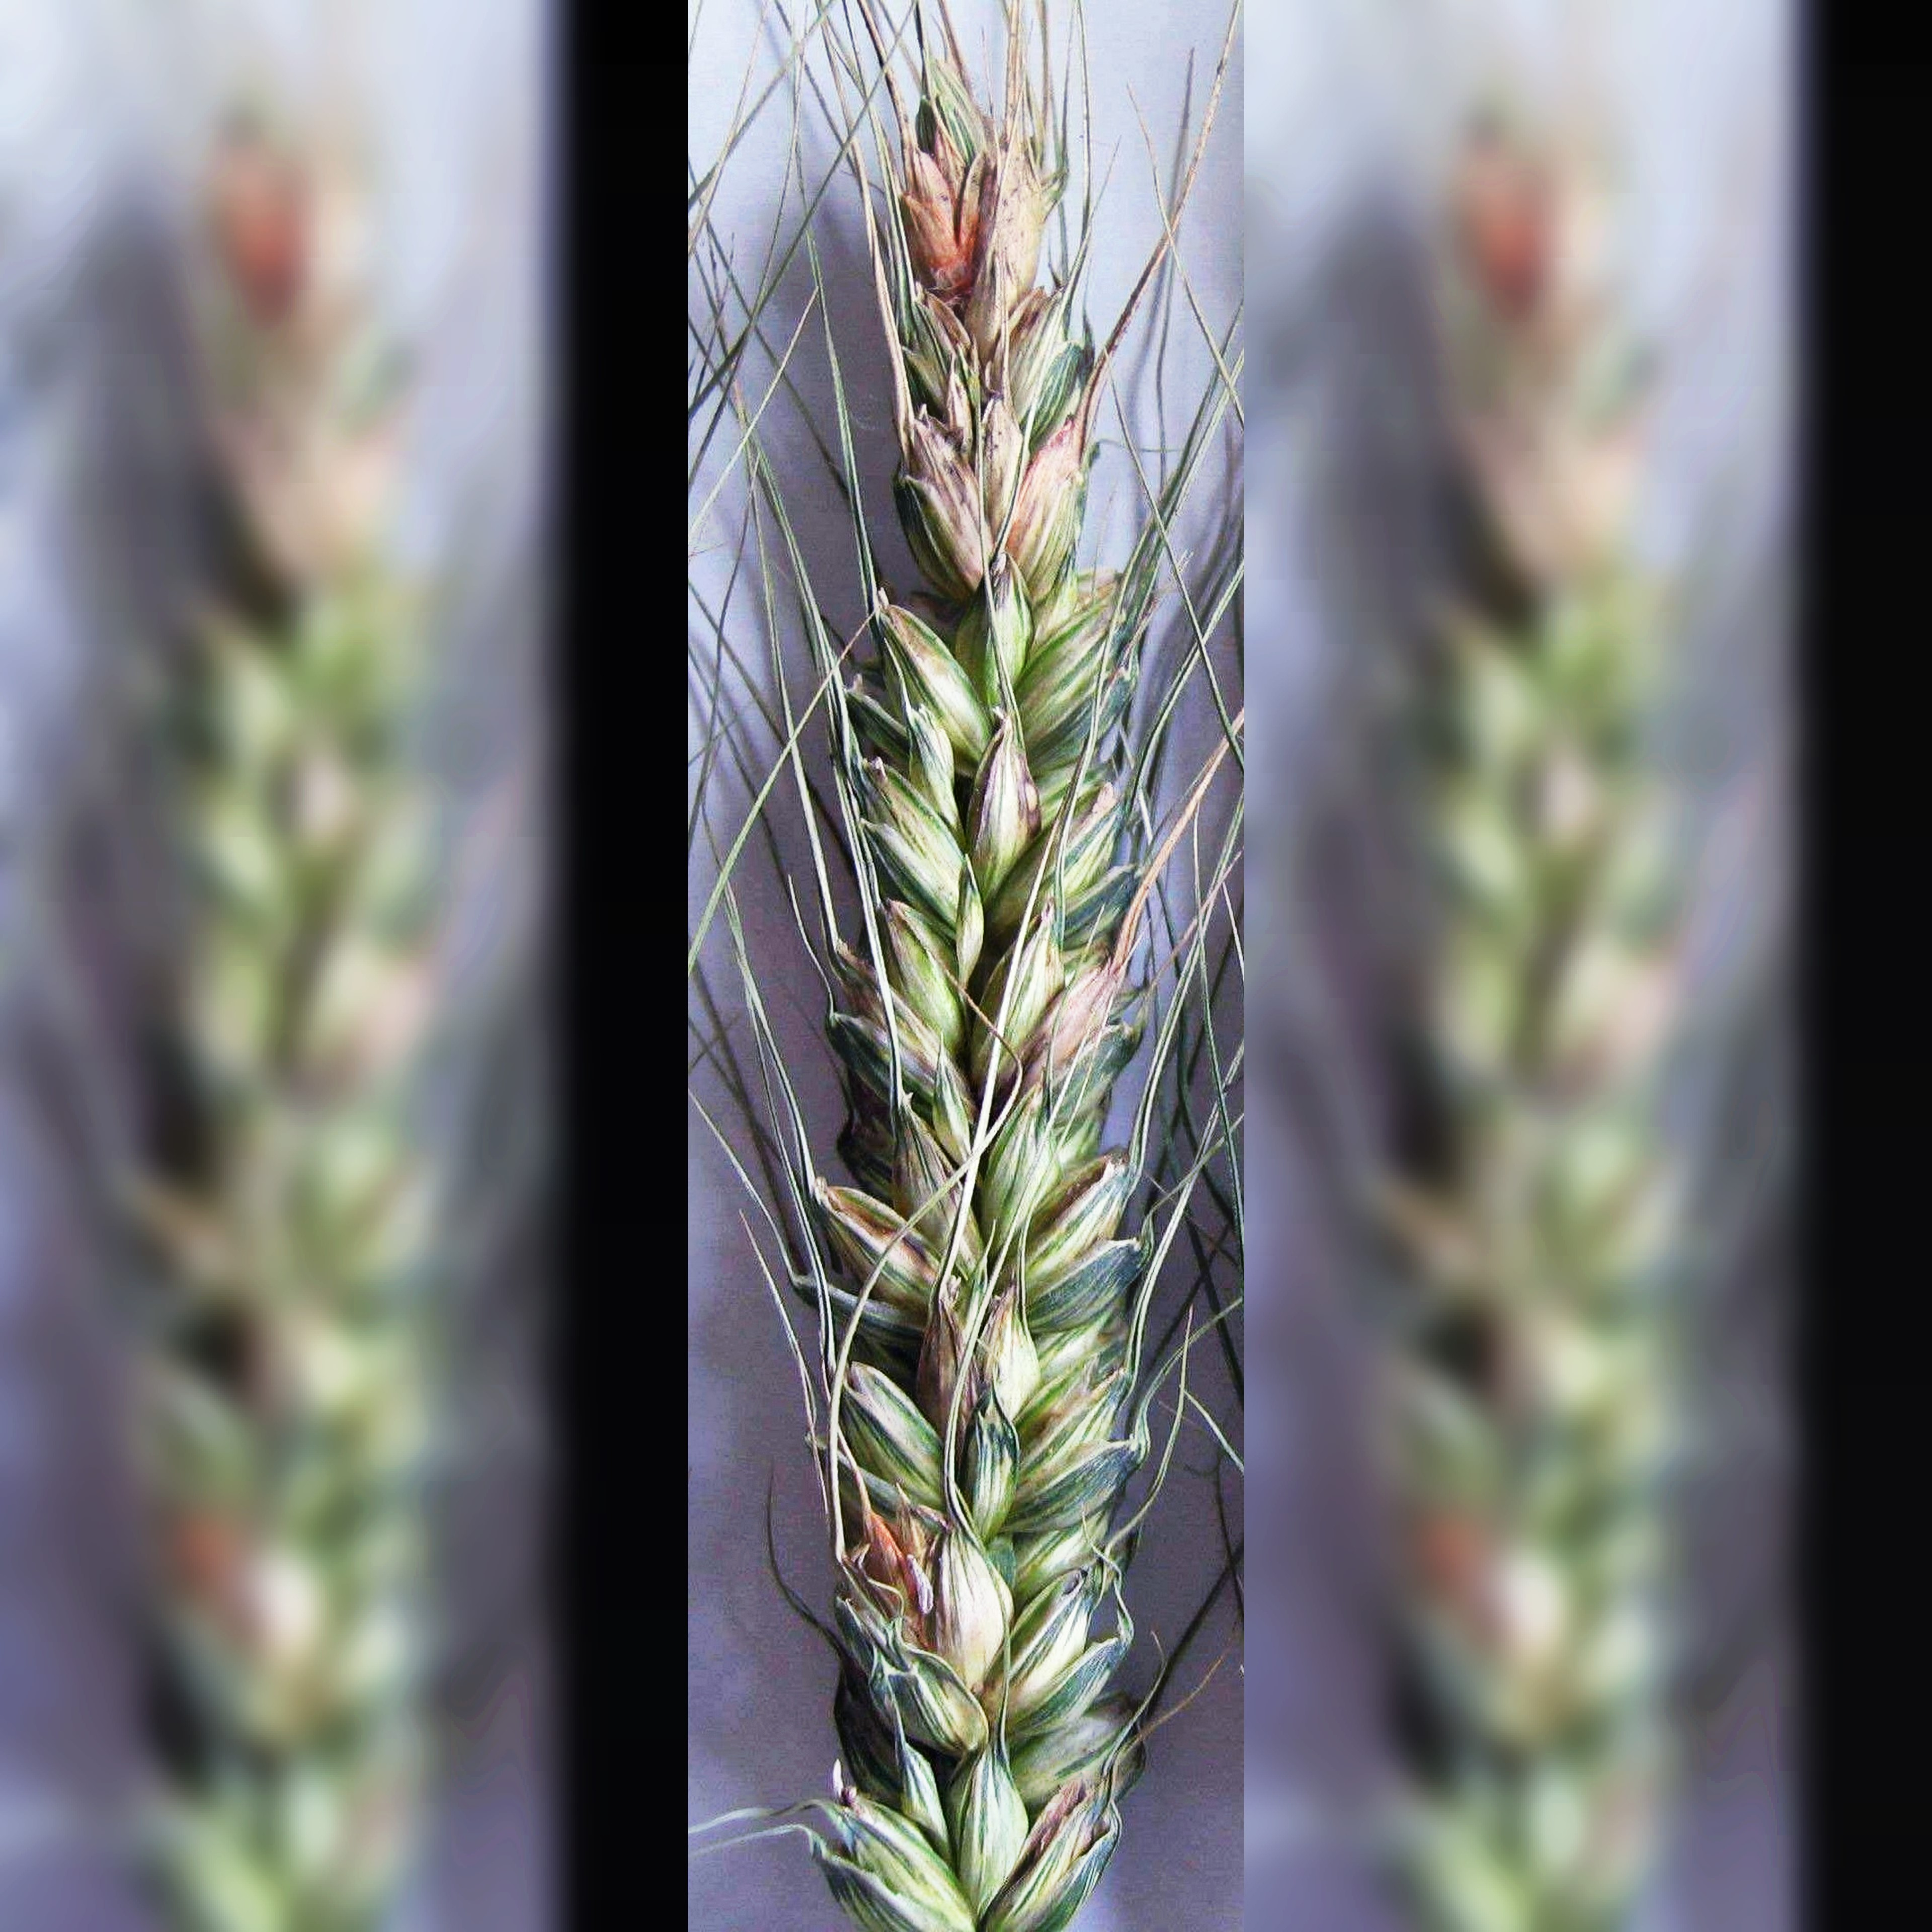Wheat scab: (731, 39, 1180, 1927)
